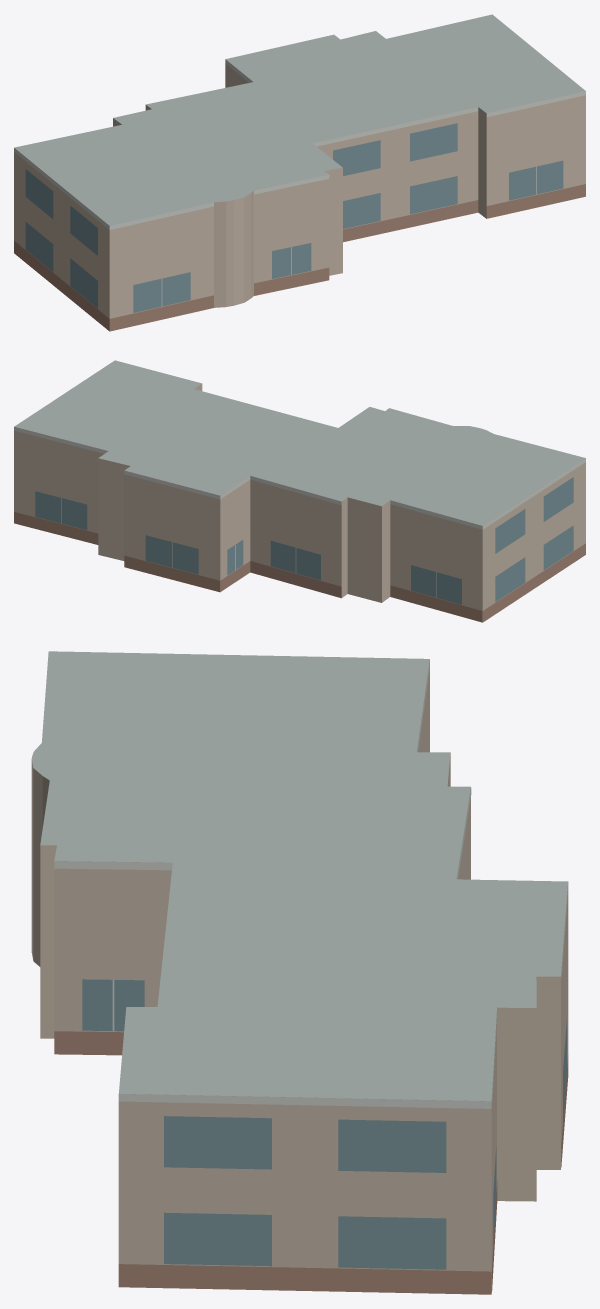
File: survey-upis-33040016.glb
3 views of the same model, one above another, from view 1: azimuth 30°, elevation 25°; view 2: azimuth 150°, elevation 25°; view 3: azimuth 270°, elevation 25° (orthographic). The views are drawn at different scales.
Parts seen in each view (by area): view 1: survey-upis-33040016.tmp; view 2: survey-upis-33040016.tmp; view 3: survey-upis-33040016.tmp.
Boxes of the visible parts, left/top/right/bottom form: survey-upis-33040016.tmp: left=14, top=14, right=585, bottom=331; survey-upis-33040016.tmp: left=14, top=360, right=585, bottom=622; survey-upis-33040016.tmp: left=31, top=651, right=568, bottom=1294.
Bounding box in the file's own units: 30.45 × 6.1 × 15.35.
